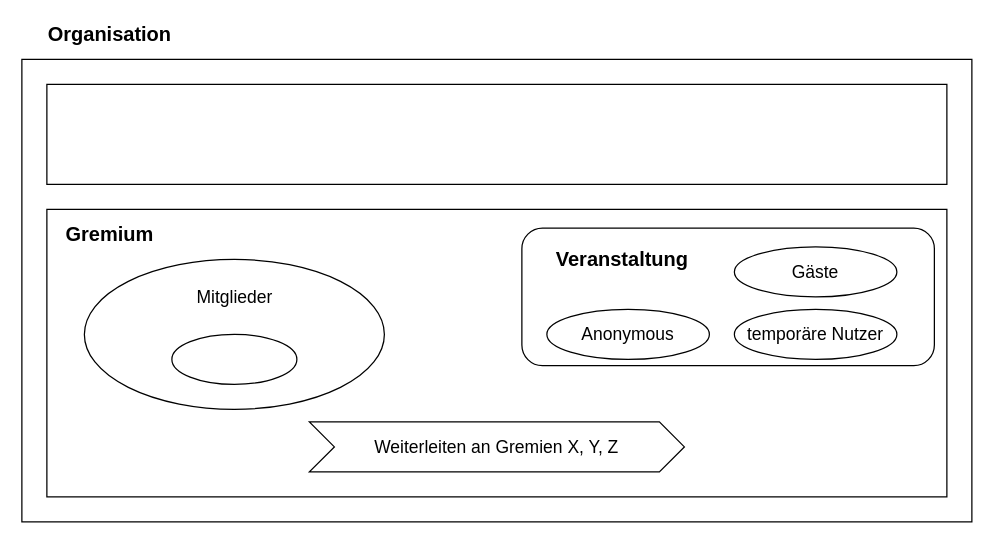
The diagram is 994 pixels wide and 544 high, and some of its shapes have lost their labels. Here are the shapes that lost their labels. From the top down, the box of each, then its label:
(46, 83, 947, 184): Nutzervewaltung
(171, 333, 297, 384): Verwalter
